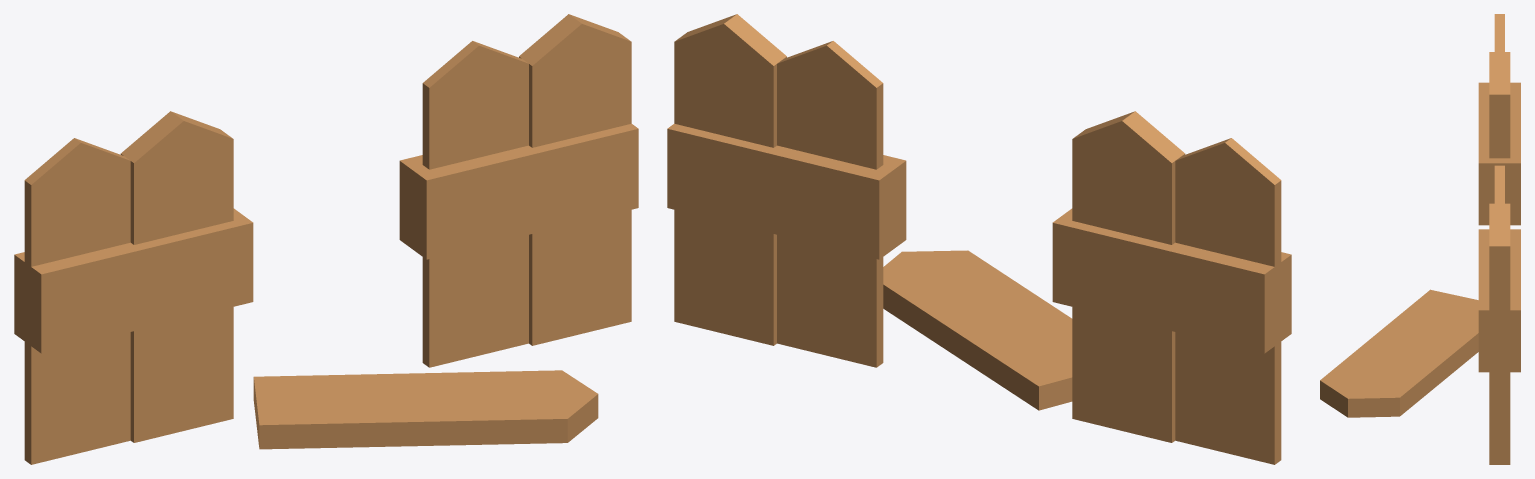
Rendered from fenceBroken.fbx.
3 views of the same model, side by side, from view 1: azimuth 30°, elevation 25°; view 2: azimuth 150°, elevation 25°; view 3: azimuth 270°, elevation 25° (orthographic). The views are drawn at different scales.
Parts seen in each view (by area): view 1: fenceBroken; view 2: fenceBroken; view 3: fenceBroken.
Part boxes in pixels (bbox=[...]): fenceBroken: bbox=[14, 14, 638, 464]; fenceBroken: bbox=[667, 14, 1291, 464]; fenceBroken: bbox=[1320, 14, 1520, 464].
Bounding box in the file's own units: 10 × 4.96 × 3.73.
